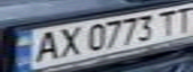0: (84, 20, 109, 52)
3: (136, 11, 160, 42)
7: (118, 15, 142, 46), (103, 17, 124, 48)
A: (27, 28, 63, 63)
T: (154, 8, 181, 36), (169, 4, 193, 33)
X: (51, 25, 84, 60)
